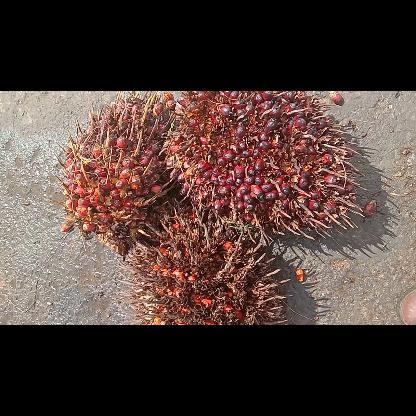TBS masak: (164, 90, 364, 238), (51, 91, 178, 255)
Terlalu masak: (117, 202, 291, 322)
